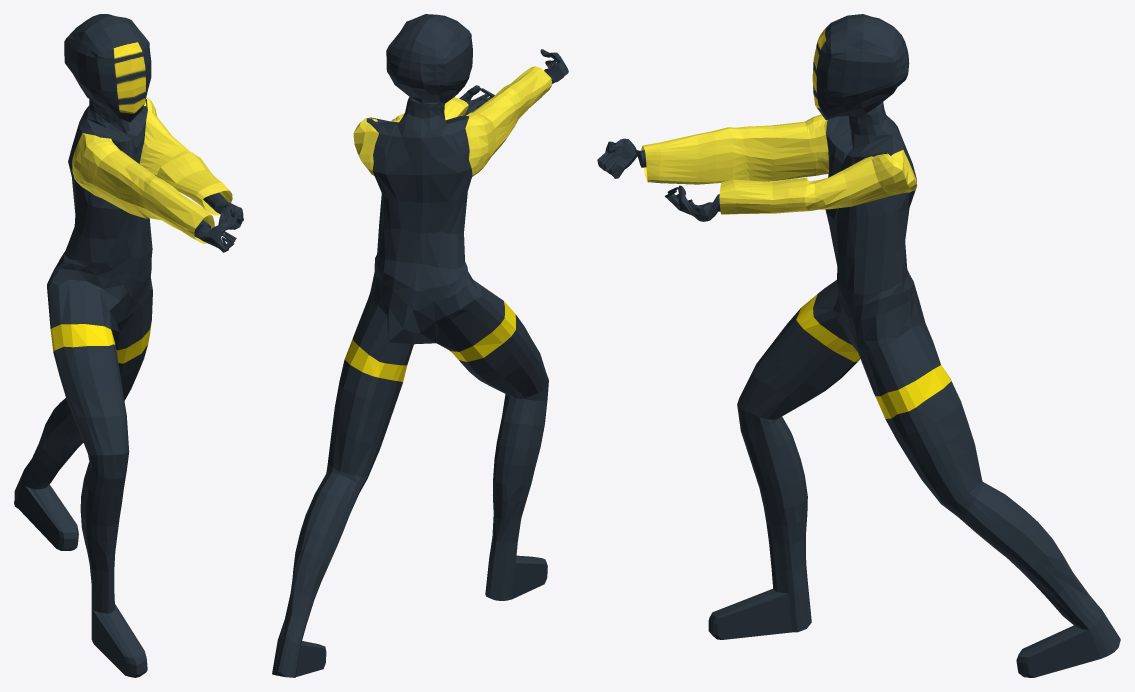
Rendered from Sentry_Attack_000027.obj.
3 renders of one model, left to right at view 1: azimuth 30°, elevation 25°; view 2: azimuth 150°, elevation 25°; view 3: azimuth 270°, elevation 25°, orthographic. The views are drawn at different scales.
Visible parts, largest first — view 1: Cube; view 2: Cube; view 3: Cube.
Boxes of the visible parts, <box> form: Cube: <box>14,14,243,677</box>; Cube: <box>272,14,568,677</box>; Cube: <box>597,14,1120,677</box>.
Bounding box in the file's own units: 0.892 × 3.74 × 2.77.
